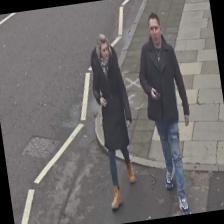person: (129, 9, 203, 218), (84, 30, 144, 210)
